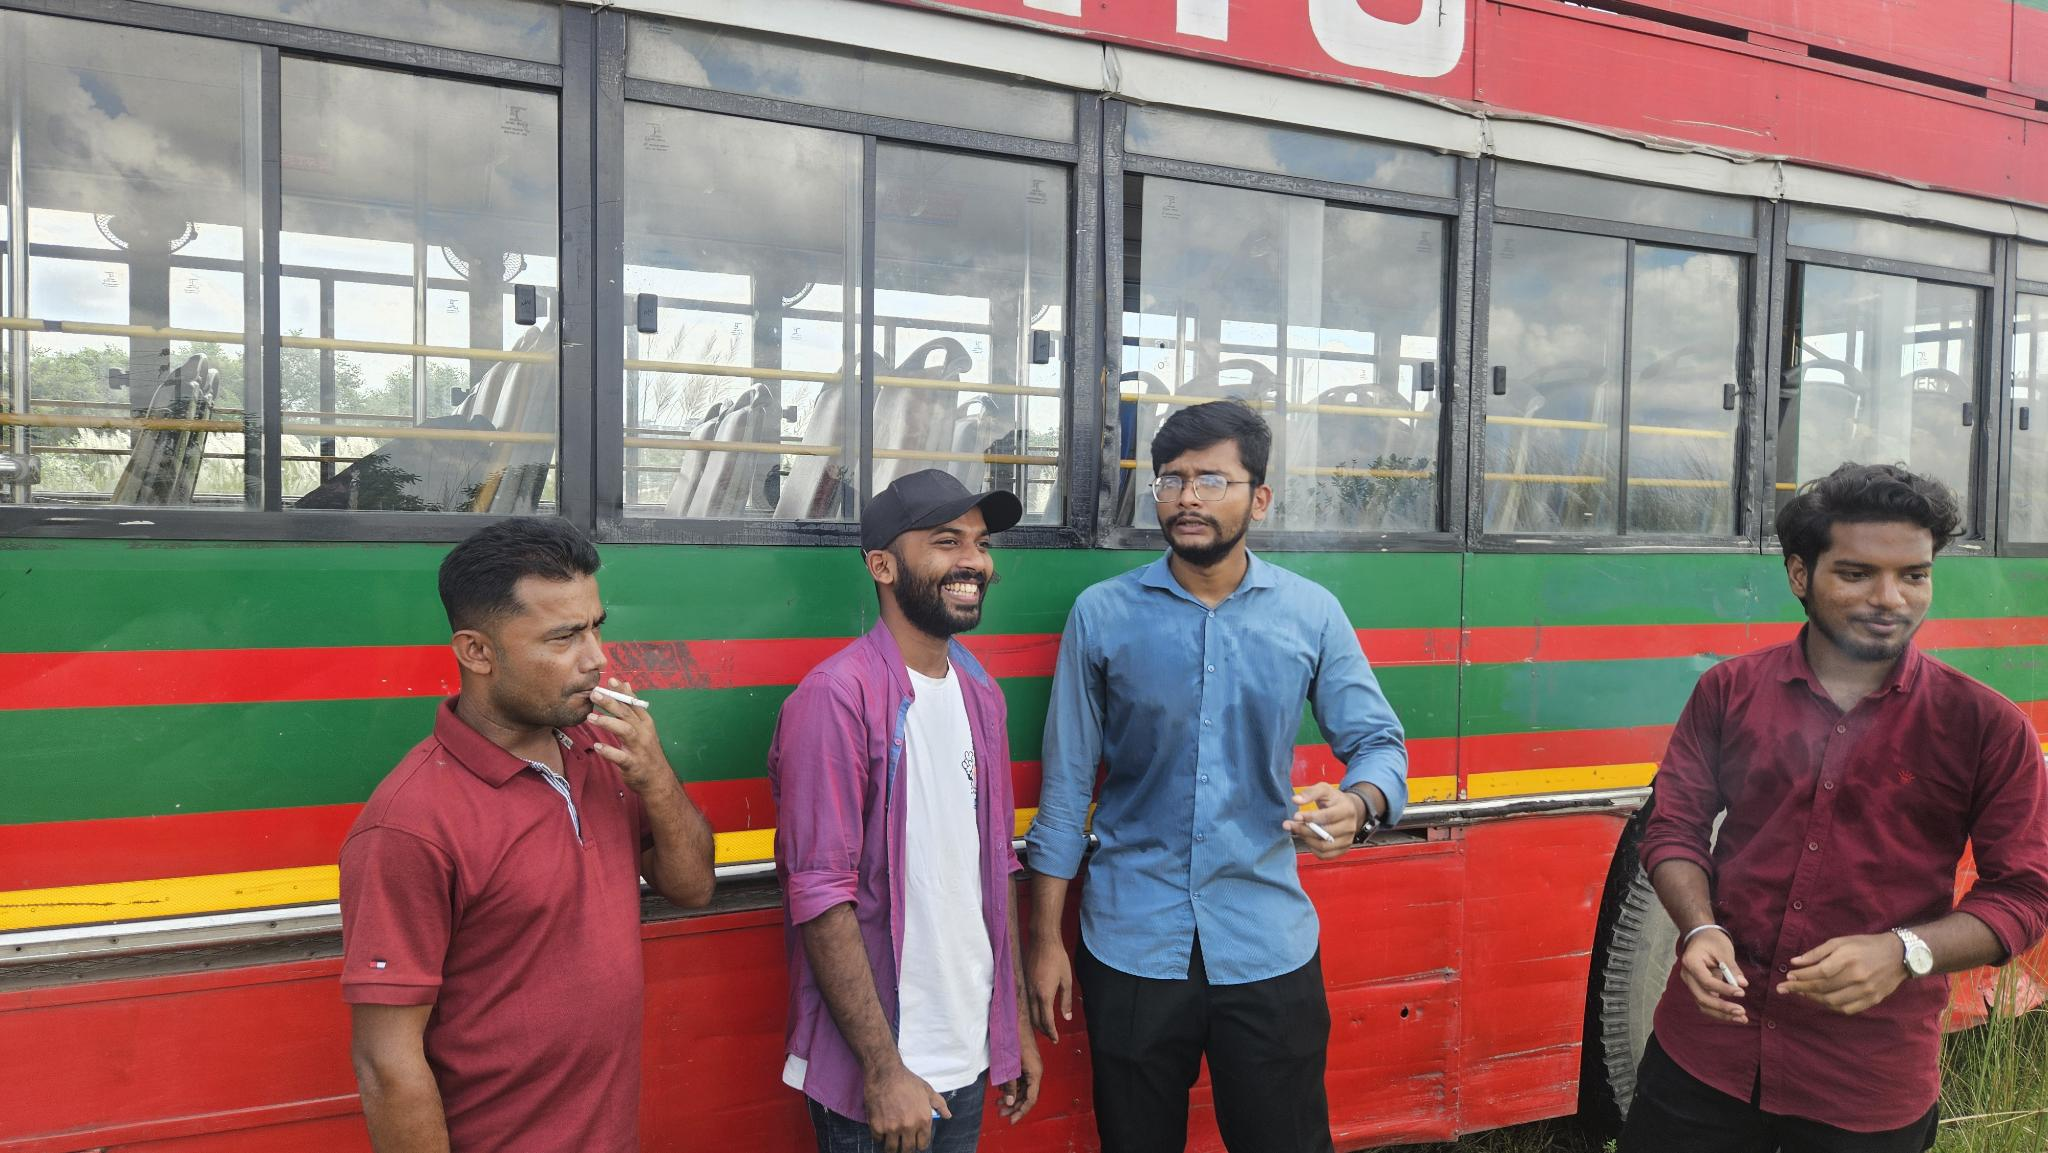cigarette: (589, 683, 653, 711), (1303, 818, 1338, 846), (1717, 959, 1741, 990)
nonSmoker: (765, 470, 1041, 1153)
smoker: (1615, 464, 2048, 1153), (1025, 401, 1409, 1153), (338, 517, 716, 1153)
